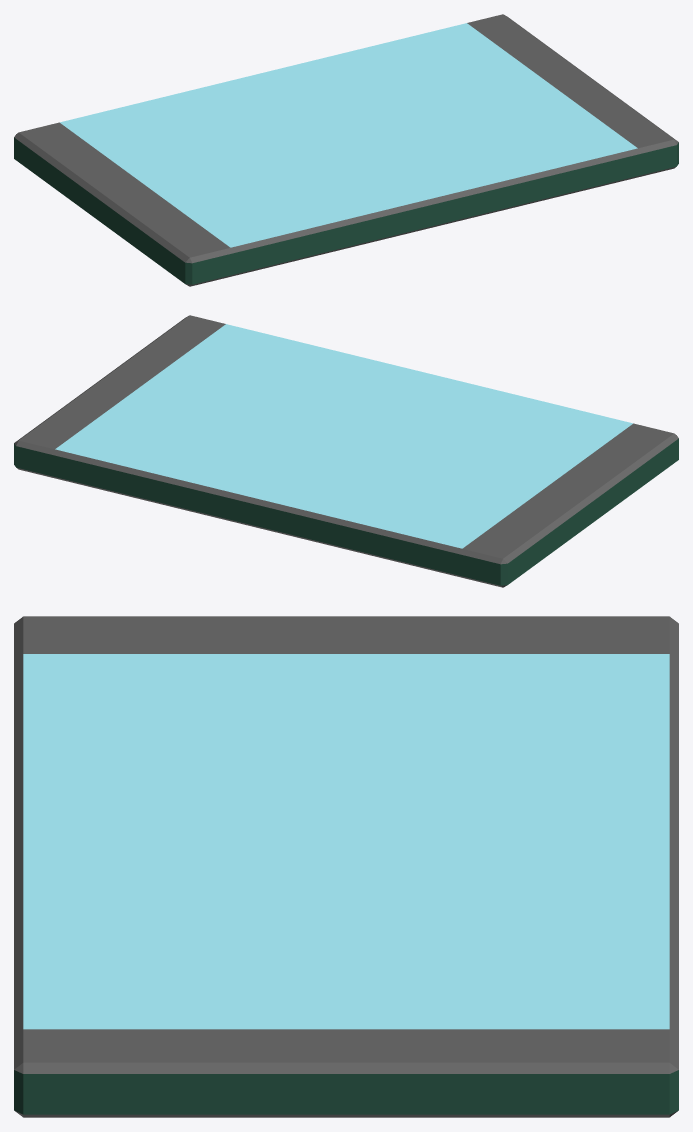
File: Phone04.fbx
3 views of the same model, one above another, from view 1: azimuth 30°, elevation 25°; view 2: azimuth 150°, elevation 25°; view 3: azimuth 270°, elevation 25° (orthographic). The views are drawn at different scales.
Parts seen in each view (by area): view 1: Phone04; view 2: Phone04; view 3: Phone04.
Boxes of the visible parts, x1,y1,x2,y2 form: Phone04: [14, 14, 678, 286]; Phone04: [14, 315, 678, 587]; Phone04: [14, 616, 678, 1117].
Bounding box in the file's own units: 0.16 × 0.0989 × 0.009.
